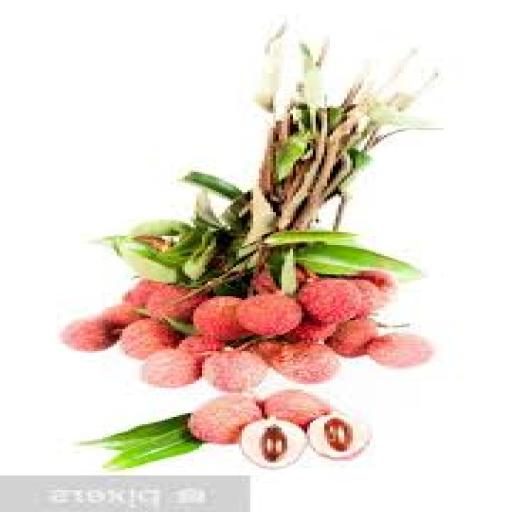lychee: (187, 394, 260, 444), (238, 417, 306, 468), (307, 412, 368, 458), (298, 278, 360, 323), (236, 293, 300, 336), (270, 342, 337, 383), (201, 352, 266, 393), (261, 390, 328, 427), (119, 319, 178, 360), (193, 297, 246, 340), (366, 333, 431, 367), (142, 350, 200, 387), (145, 286, 206, 319), (327, 319, 377, 356), (59, 319, 115, 351), (349, 278, 388, 316), (122, 280, 166, 307), (284, 319, 337, 341), (176, 335, 223, 356), (355, 271, 397, 294), (99, 304, 141, 327), (244, 341, 280, 363)
